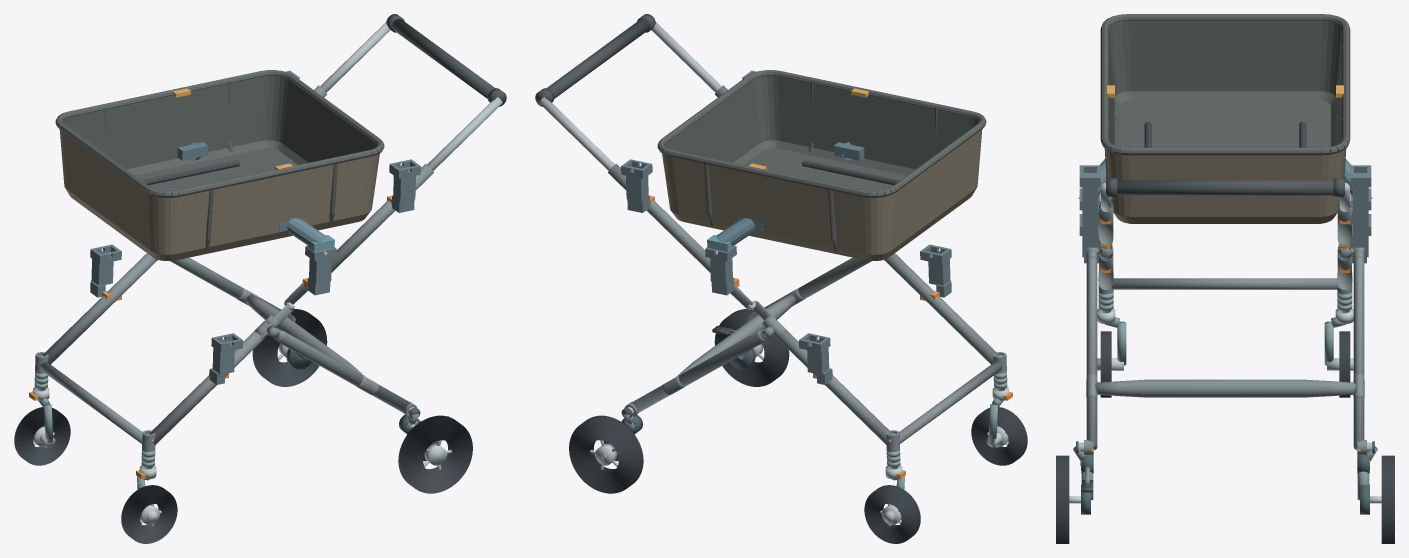
Rendered from S14_w650_state1_wheel_S.glb.
3 renders of one model, left to right at view 1: azimuth 30°, elevation 25°; view 2: azimuth 150°, elevation 25°; view 3: azimuth 270°, elevation 25°, orthographic. The views are drawn at different scales.
Parts seen in each view (by area): view 1: S14_Cabin, RL_tire.008, RR_tire.008, FL_tire.008, FR_tire.008, main_lower_1.009, round_handle.008, V46_rear_leg_-1.009, main_lower_-1.009, S14_Cabin_Mount_M, main_upper_-1.009, front_fixed_round_tube.008 (+8 smaller); view 2: S14_Cabin, RR_tire.008, FR_tire.008, RL_tire.008, FL_tire.008, main_lower_-1.009, round_handle.008, V46_rear_leg_1.009, main_lower_1.009, S14_Cabin_Mount_M, main_upper_1.009, front_fixed_round_tube.008 (+8 smaller); view 3: S14_Cabin, V46_rearbar.009, round_handle.008, front_fixed_round_tube.008, V46_rear_leg_1.009, V46_rear_leg_-1.009, RL_tire.008, RR_tire.008, Universal_Cabin_Receiver_H_1, Universal_Cabin_Receiver_H_-1, FL_tire.008, FR_tire.008 (+6 smaller).
Part boxes in pixels (x1,y1,x2,y2): S14_Cabin: [55, 70, 384, 261]; RL_tire.008: [398, 415, 472, 493]; RR_tire.008: [252, 309, 327, 386]; FL_tire.008: [121, 485, 177, 543]; FR_tire.008: [14, 407, 70, 465]; main_lower_1.009: [42, 253, 156, 364]; round_handle.008: [392, 18, 505, 105]; V46_rear_leg_-1.009: [276, 330, 410, 412]; main_lower_-1.009: [149, 331, 266, 445]; S14_Cabin_Mount_M: [177, 142, 334, 254]; main_upper_-1.009: [331, 164, 433, 272]; front_fixed_round_tube.008: [39, 362, 142, 443]; S14_Cabin: [657, 70, 986, 261]; RR_tire.008: [569, 415, 643, 493]; FR_tire.008: [864, 485, 920, 543]; RL_tire.008: [714, 309, 789, 386]; FL_tire.008: [971, 407, 1027, 465]; main_lower_-1.009: [885, 253, 999, 364]; round_handle.008: [536, 18, 649, 105]; V46_rear_leg_1.009: [631, 330, 765, 412]; main_lower_1.009: [775, 331, 892, 445]; S14_Cabin_Mount_M: [707, 142, 864, 254]; main_upper_1.009: [608, 164, 710, 272]; front_fixed_round_tube.008: [899, 362, 1002, 443]; S14_Cabin: [1100, 14, 1350, 223]; V46_rearbar.009: [1095, 379, 1355, 397]; round_handle.008: [1106, 180, 1344, 195]; front_fixed_round_tube.008: [1111, 278, 1339, 289]; V46_rear_leg_1.009: [1353, 255, 1364, 450]; V46_rear_leg_-1.009: [1086, 255, 1097, 450]; RL_tire.008: [1056, 455, 1069, 543]; RR_tire.008: [1381, 455, 1394, 543]; Universal_Cabin_Receiver_H_1: [1350, 165, 1371, 224]; Universal_Cabin_Receiver_H_-1: [1079, 165, 1100, 224]; FL_tire.008: [1100, 331, 1111, 397]; FR_tire.008: [1339, 331, 1350, 397].
Size of the model in its own units: 1.12 by 1.01 by 0.766.
